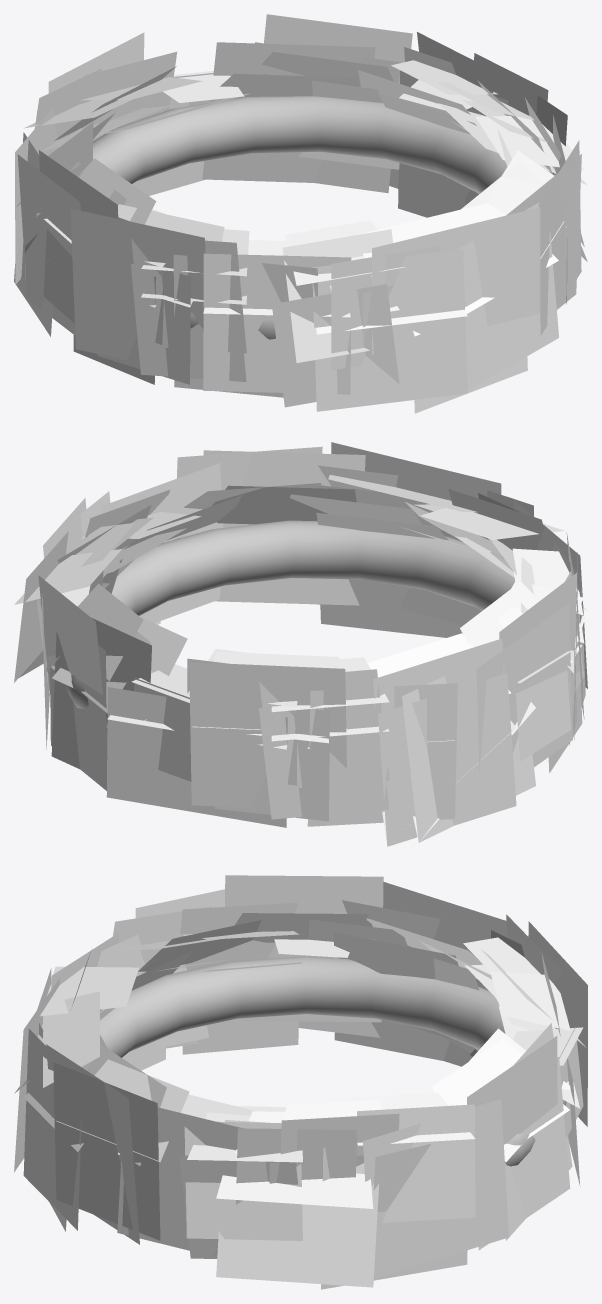
File: stage.fbx
3 views of the same model, one above another, from view 1: azimuth 30°, elevation 25°; view 2: azimuth 150°, elevation 25°; view 3: azimuth 270°, elevation 25° (orthographic).
Visible parts, largest first — view 1: polySurface1, pTorus1, pPlane6, pPlane19 (×2), pPlane8, pPlane20 (×2), pPlane10, pPlane25 (×2), pPlane13, pPlane4, pPlane26 (×2), pPlane17 (×2) (+15 smaller); view 2: polySurface1, pTorus1, pPlane25 (×3), pPlane19 (×2), pPlane23 (×2), pPlane20 (×2), pPlane7, pPlane17, pPlane22 (×2), pPlane26, pPlane28, pPlane11 (+14 smaller); view 3: polySurface1, pTorus1, pPlane19 (×3), pPlane12, pPlane26 (×2), pPlane25 (×2), pPlane23 (×2), pPlane24 (×2), pPlane16, pPlane20 (×2), pPlane17 (×3), pPlane14 (×2) (+10 smaller).
Boxes of the visible parts, x1,y1,x2,y2 form: polySurface1: (16, 52, 586, 336); pTorus1: (93, 96, 507, 339); pPlane6: (312, 249, 467, 411); pPlane19 (×2): (48, 32, 205, 360); pPlane8: (203, 253, 351, 394); pPlane20 (×2): (14, 42, 375, 336); pPlane10: (438, 207, 540, 326); pPlane25 (×2): (255, 14, 412, 193); pPlane13: (458, 202, 558, 395); pPlane4: (271, 284, 399, 407); pPlane26 (×2): (17, 47, 455, 335); pPlane17 (×2): (34, 68, 246, 353); polySurface1: (14, 475, 587, 845); pTorus1: (66, 520, 571, 727); pPlane25 (×3): (38, 575, 516, 846); pPlane19 (×2): (19, 504, 346, 807); pPlane23 (×2): (14, 531, 215, 815); pPlane20 (×2): (51, 618, 535, 842); pPlane7: (203, 450, 365, 605); pPlane17: (259, 669, 389, 790); pPlane22 (×2): (134, 670, 570, 781); pPlane26: (476, 604, 572, 775); pPlane28: (307, 683, 457, 826); pPlane11: (320, 485, 462, 637); polySurface1: (14, 913, 586, 1208); pTorus1: (100, 956, 566, 1166); pPlane19 (×3): (135, 889, 587, 1287); pPlane12: (53, 1062, 160, 1240); pPlane26 (×2): (299, 1021, 508, 1278); pPlane25 (×2): (467, 1036, 570, 1250); pPlane23 (×2): (357, 1058, 580, 1222); pPlane24 (×2): (225, 875, 467, 1289); pPlane16: (184, 1121, 302, 1240); pPlane20 (×2): (334, 900, 572, 1240); pPlane17 (×3): (113, 906, 561, 1258); pPlane14 (×2): (182, 1018, 399, 1155).
Size of the model in its own units: 33602 by 12018 by 32505.
